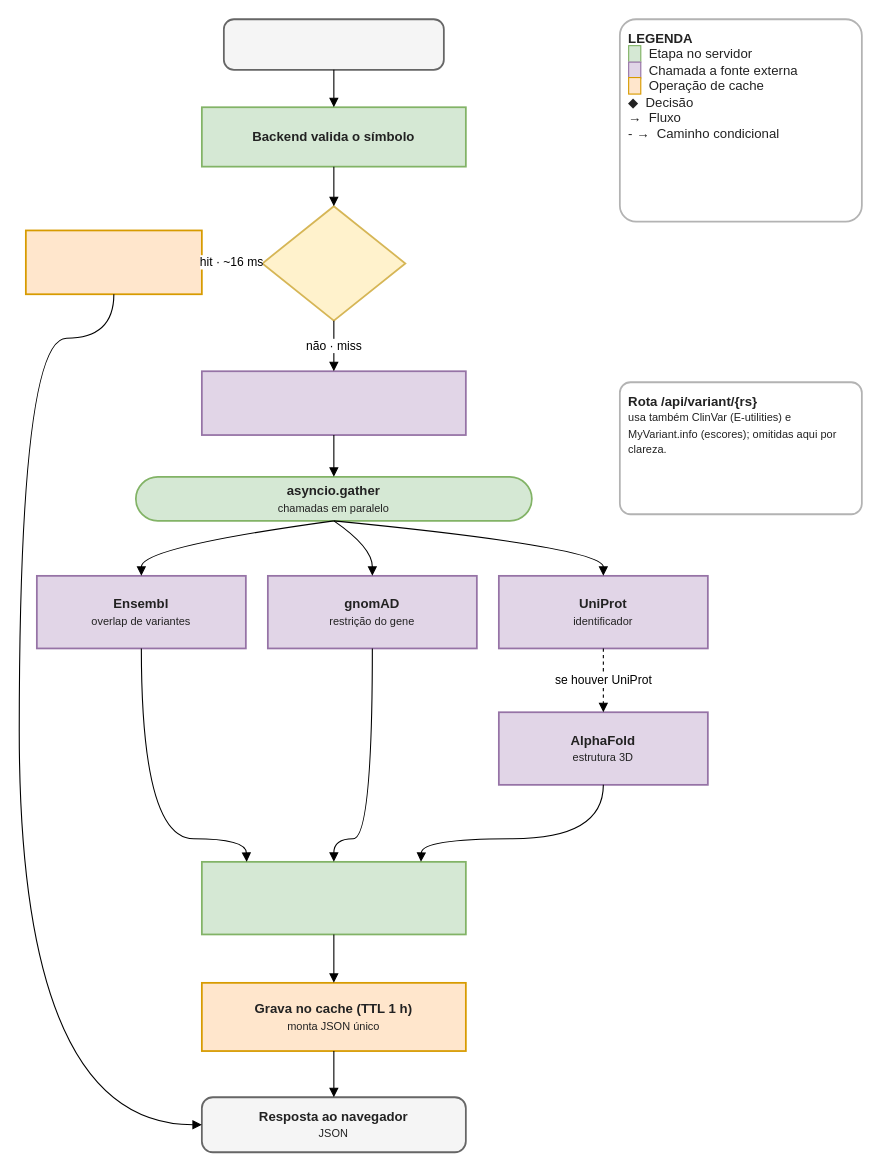
Image size: 882x1173. Some labels were removed from this diagram. Each missing label, with the box of its shape:
Agrega, classifica e prioriza variantes (no servidor): (200, 860, 466, 935)
Em cache? (Redis): (261, 205, 406, 321)
Ensembl lookup do gene → gene_id (sequencial): (200, 370, 466, 435)
Navegador GET /api/gene/{símbolo}: (222, 18, 444, 70)
Resposta do cache entrega imediata: (24, 229, 202, 295)
